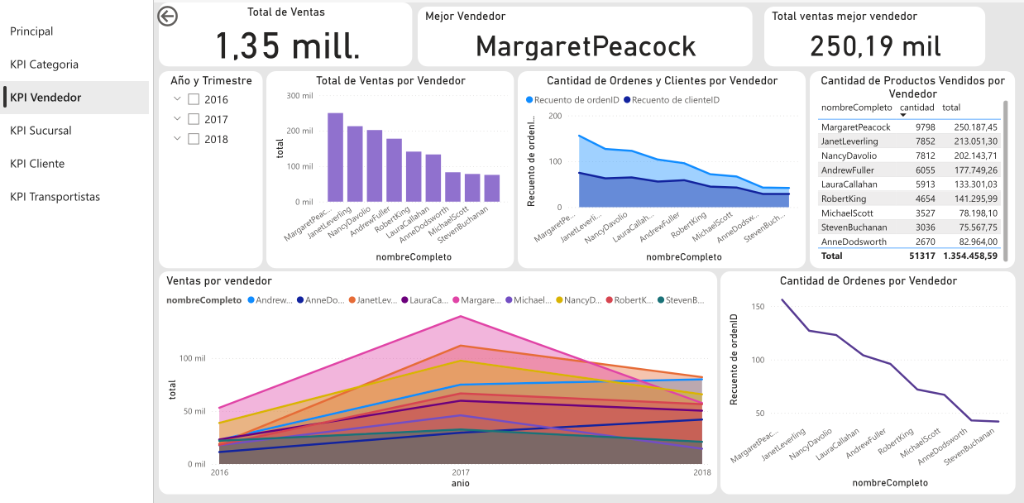

The page's visual inventory and layout, read from the dashboard file:
{"tool":"powerbi","page":{"name":"KPI Vendedor","canvas":[1280,720],"ordinal":2},"visuals":[{"type":"columnChart","title":"Total de Ventas por Vendedor","fields":{"Category":["dimEmpleados.nombreCompleto"],"Y":["Sum(factTable.total)"]},"box":[164.9,100.1,362.5,288.6],"z":0},{"type":"lineChart","title":"Cantidad de Ordenes por Vendedor","fields":{"Category":["dimEmpleados.nombreCompleto"],"Y":["Count(factTable.ordenID)"]},"box":[829.1,393.3,431.9,326.5],"z":1000},{"type":"areaChart","title":"Cantidad de Ordenes y Clientes por Vendedor","fields":{"Category":["dimEmpleados.nombreCompleto"],"Y":["Count(factTable.ordenID)","Count(factTable.clienteID)"]},"box":[533.3,100.1,421.4,288.6],"z":2000},{"type":"tableEx","title":"Cantidad de Productos Vendidos por Vendedor","fields":{"Values":["dimEmpleados.nombreCompleto","Sum(factTable.cantidad)","Sum(factTable.total)"]},"box":[960.7,100.1,300.4,288.6],"z":3000},{"type":"card","title":"Total de Ventas","fields":{"Values":["Sum(factTable.total)"]},"box":[7.2,0,371,93.6],"z":4000},{"type":"slicer","title":"Año y Trimestre","fields":{"Values":["dimTiempo.anio","dimTiempo.trim"]},"box":[7.2,100.1,151.8,288.6],"z":5000},{"type":"areaChart","title":"Ventas por vendedor","fields":{"Category":["dimTiempo.anio"],"Y":["Sum(factTable.total)"],"Series":["dimEmpleados.nombreCompleto"]},"box":[7.2,393.3,817.3,326.5],"z":6000},{"type":"card","title":"Mejor Vendedor","fields":{"Values":["Min(dimEmpleados.nombreCompleto)"]},"box":[386.7,5.9,490.1,87.7],"z":6001},{"type":"actionButton","box":[0,0,100,40],"z":6002},{"type":"card","title":"Total ventas mejor vendedor","fields":{"Values":["Sum(factTable.total)"]},"box":[893.3,5.9,323.3,87.7],"z":6003}]}

Visuals, with their boxes on the page's 1280x720 design canvas (x1, y1, x2, y2). These are canvas units, not pixel positions in the 1024x503 screenshot, which may show the page scaled, cropped or inside an application window:
"Total de Ventas por Vendedor" columnChart: <bbox>165, 100, 527, 389</bbox>
"Cantidad de Ordenes por Vendedor" lineChart: <bbox>829, 393, 1261, 720</bbox>
"Cantidad de Ordenes y Clientes por Vendedor" areaChart: <bbox>533, 100, 955, 389</bbox>
"Cantidad de Productos Vendidos por Vendedor" tableEx: <bbox>961, 100, 1261, 389</bbox>
"Total de Ventas" card: <bbox>7, 0, 378, 94</bbox>
"Año y Trimestre" slicer: <bbox>7, 100, 159, 389</bbox>
"Ventas por vendedor" areaChart: <bbox>7, 393, 824, 720</bbox>
"Mejor Vendedor" card: <bbox>387, 6, 877, 94</bbox>
actionButton: <bbox>0, 0, 100, 40</bbox>
"Total ventas mejor vendedor" card: <bbox>893, 6, 1217, 94</bbox>
